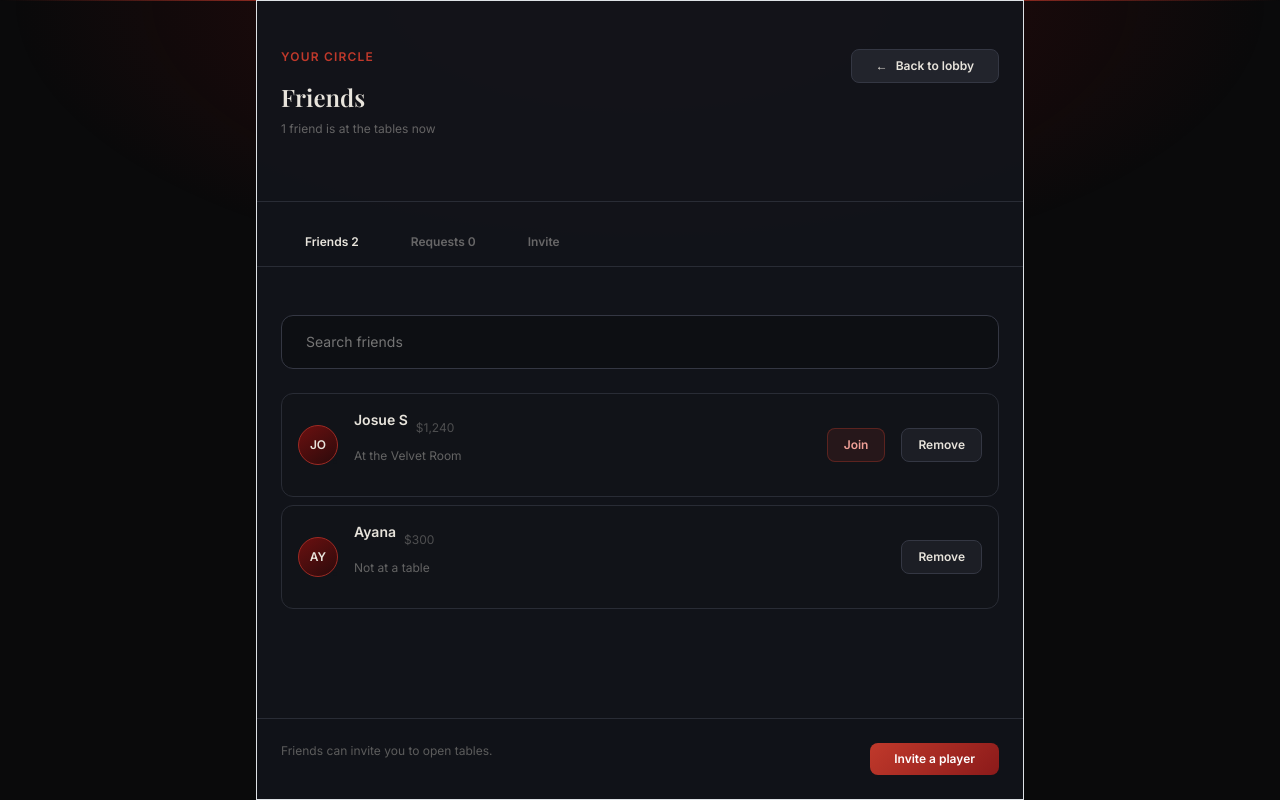
Scenario: Requests tab › no requests says you are all caught up
The image size is (1280, 800).
Click the tab "Requests 0" at (443,242), box [387,218,500,266]
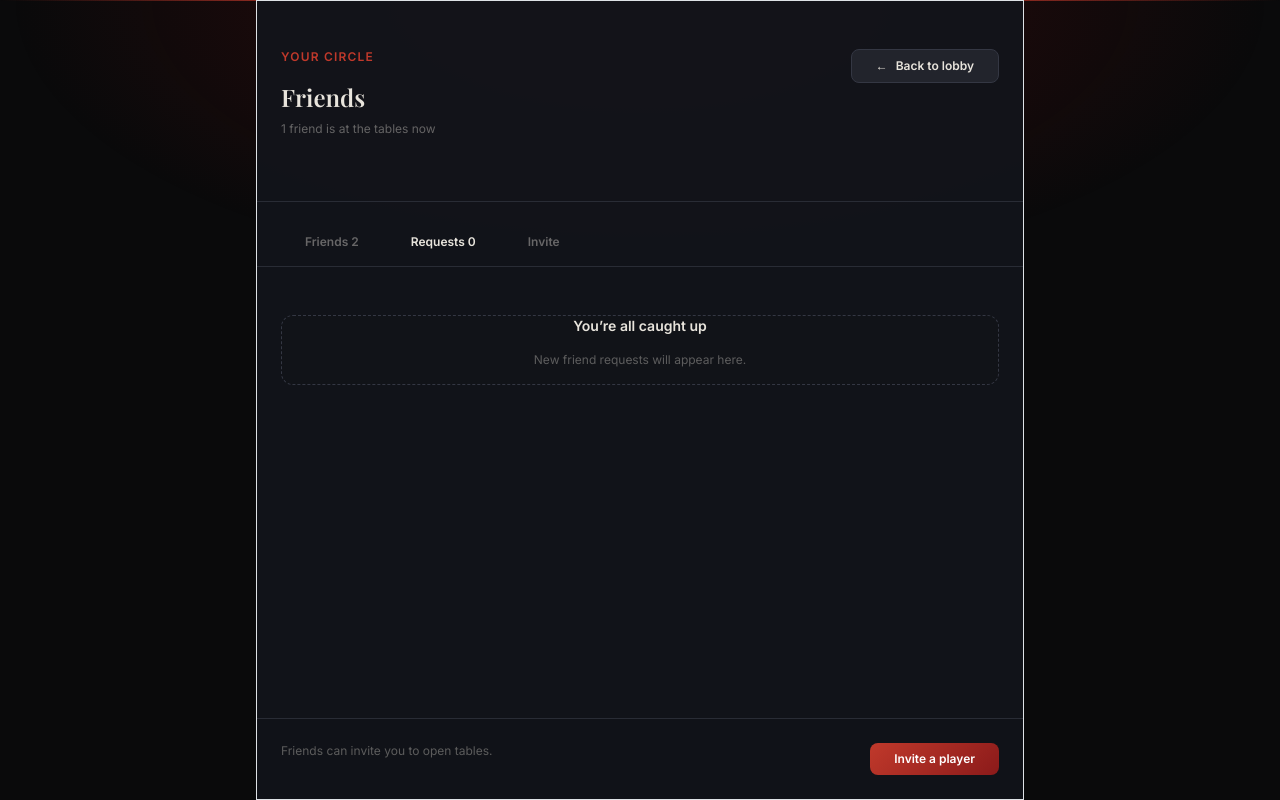
Check: the text "You’re all caught up" is shown, box [573,317,707,334]
